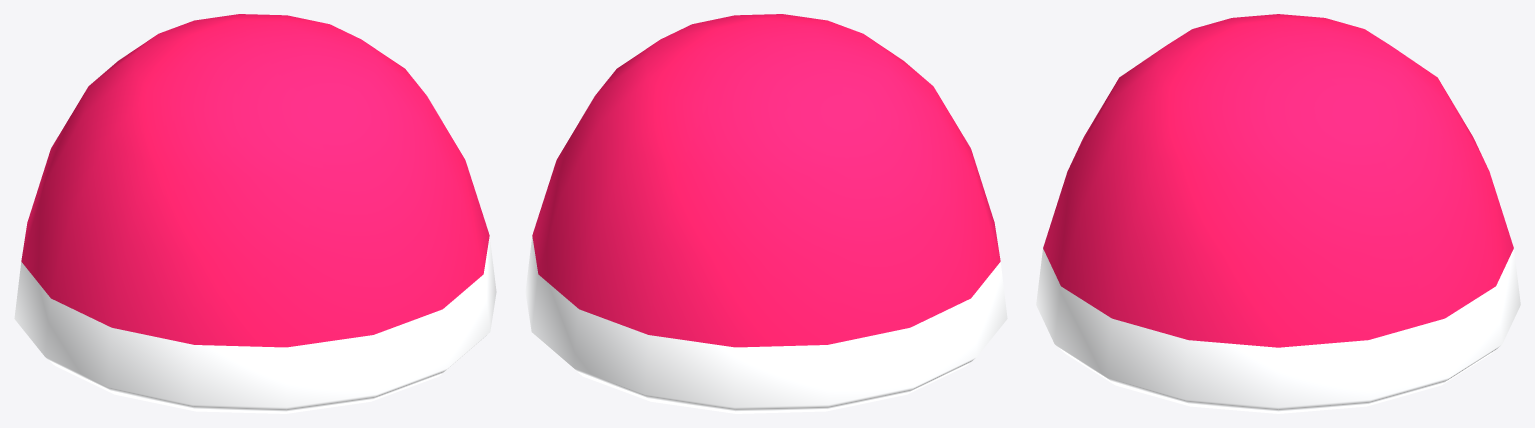
Rendered from Candy_17.glb.
3 views of the same model, side by side, from view 1: azimuth 30°, elevation 25°; view 2: azimuth 150°, elevation 25°; view 3: azimuth 270°, elevation 25° (orthographic).
Visible parts, largest first — view 1: Candy_17; view 2: Candy_17; view 3: Candy_17.
Boxes of the visible parts, bbox=[...] form: Candy_17: bbox=[14, 14, 496, 413]; Candy_17: bbox=[525, 14, 1007, 413]; Candy_17: bbox=[1036, 14, 1520, 413].
Size of the model in its own units: 2.04 by 1.28 by 2.04.
Materials: 1 (1 with a texture image).
